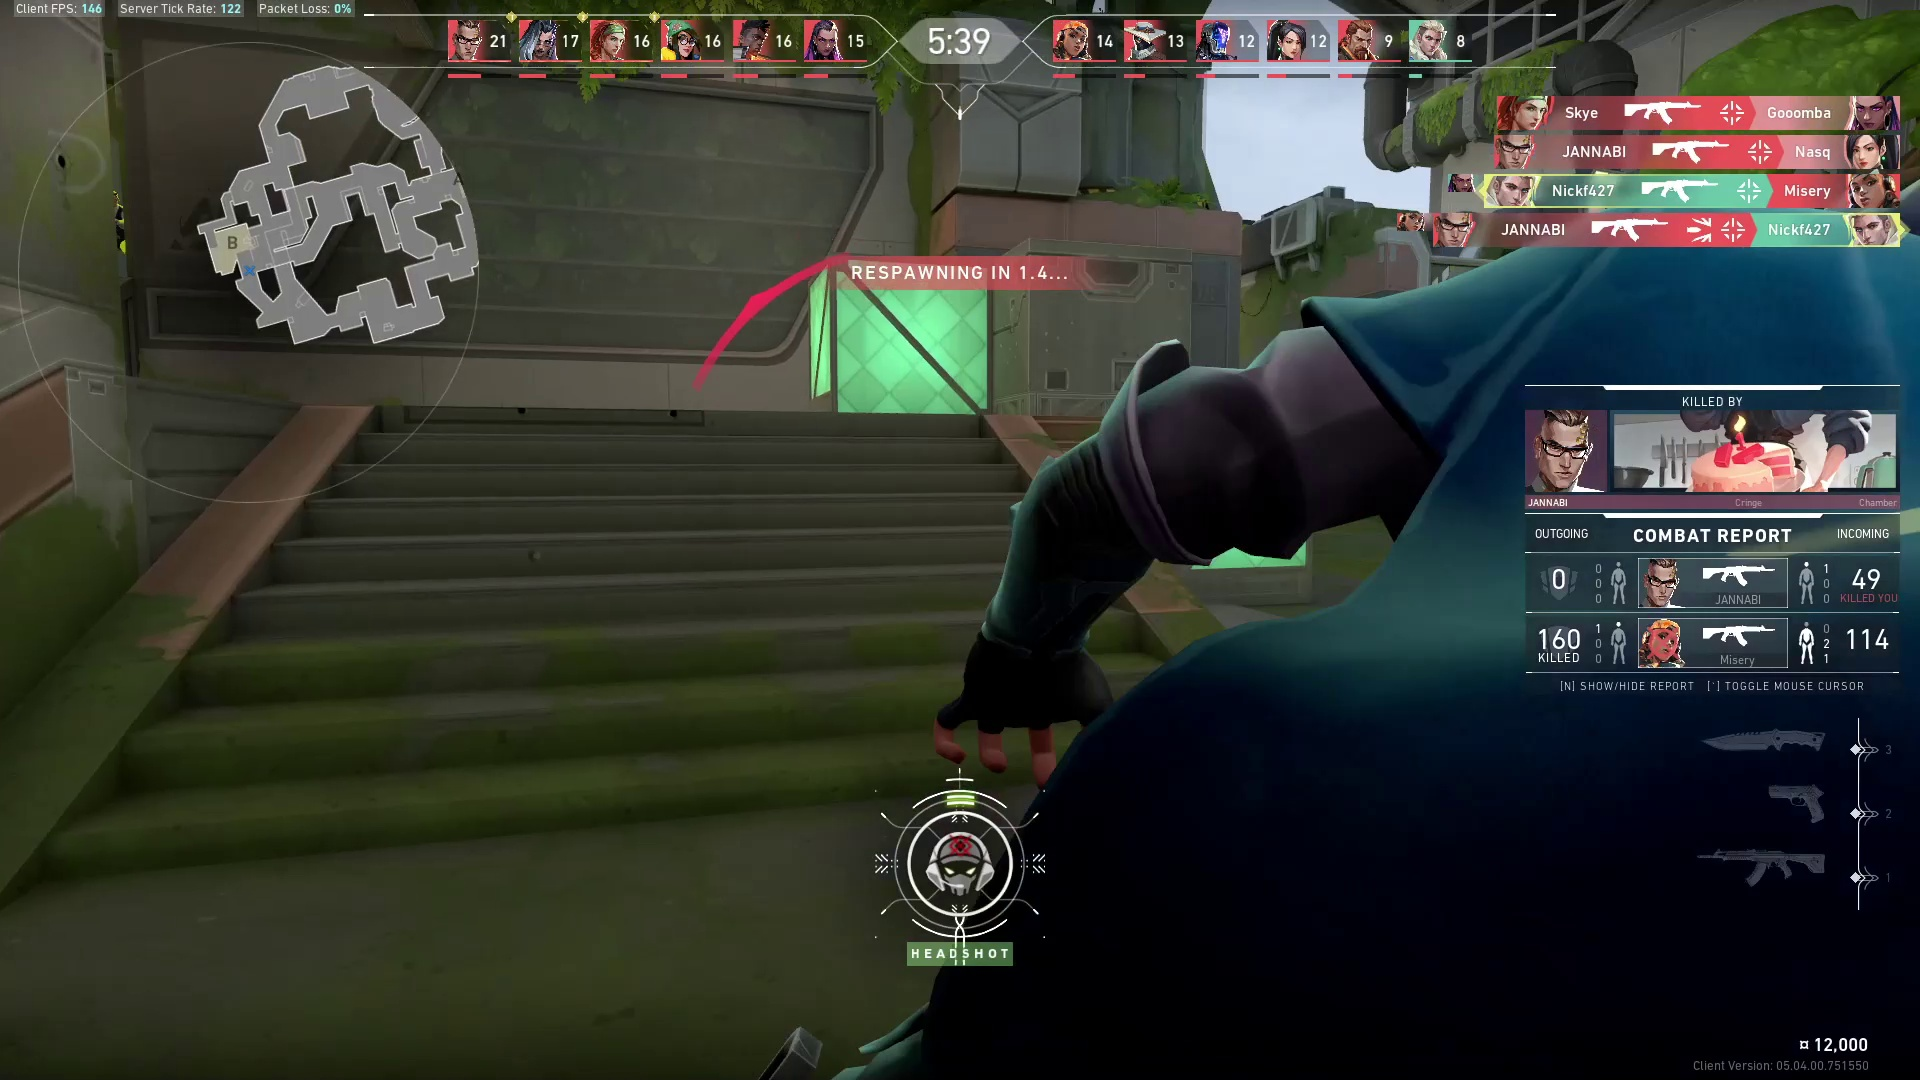enemy_gen: (115, 187, 125, 266)
